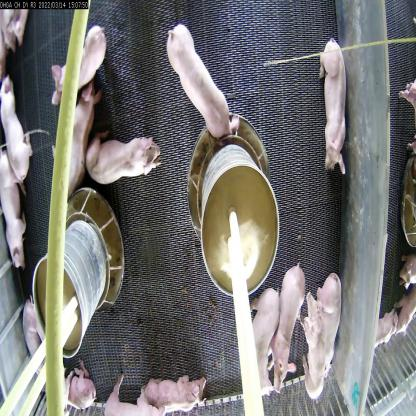Pig: (164, 15, 236, 154), (292, 269, 347, 399), (74, 113, 158, 195), (45, 82, 99, 203), (318, 36, 353, 211), (0, 82, 48, 184), (53, 26, 108, 108), (274, 267, 302, 411), (144, 363, 217, 416), (0, 145, 26, 275), (12, 283, 44, 371), (51, 363, 100, 416), (95, 371, 151, 415)
